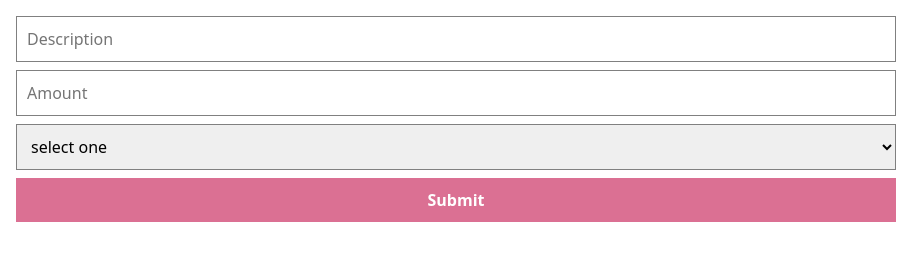
Test case: should check if the expense calulator › should check the description textbox for valid input
Type "123" into the field with placeholder "Description".
click(456, 39); type("123")  # box [16,16,896,62]
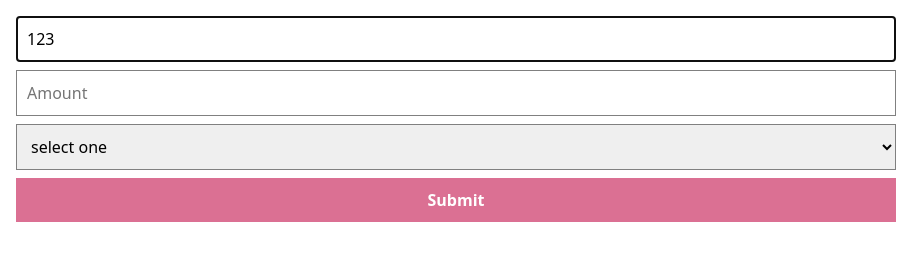
Type "350" into the field with placeholder "Amount".
click(456, 93); type("350")  # box [16,70,896,116]
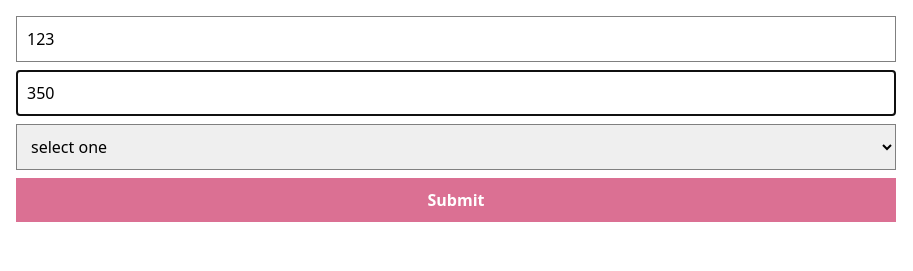
Select "hobby" in the dropdown at (456, 147), box [16,124,896,170]
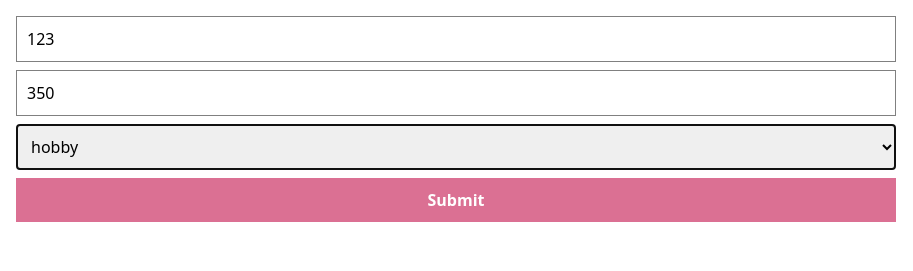
Select "hobby" in the dropdown at (456, 147), box [16,124,896,170]
Click the button named "submit".
click(456, 200)  # box [16,178,896,222]
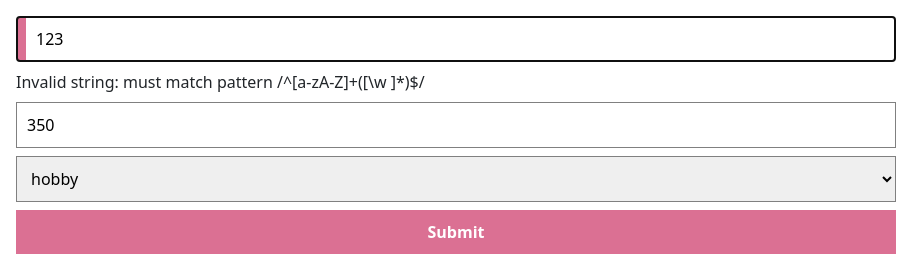
Expected: the text "Invalid string: must match pattern /^[a-zA-Z]+([\\w ]*)$/" is shown, [16,71,425,93]
